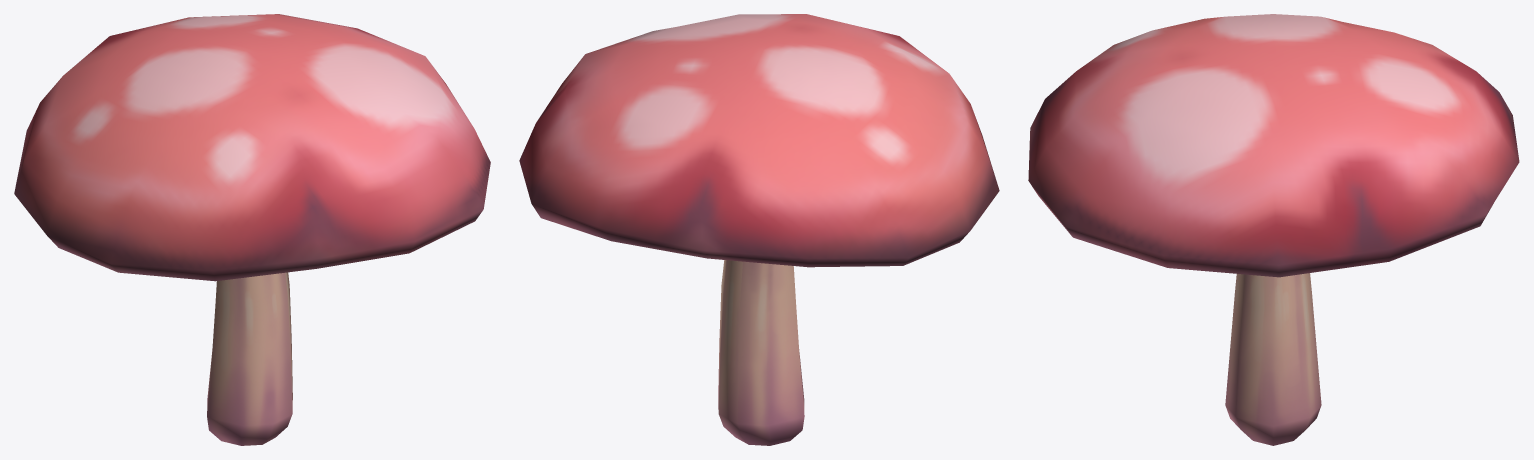
Rendered from MD_mushroom_Nomal_S.fbx.
The picture shows the model from 3 angles, left to right: view 1: azimuth 30°, elevation 25°; view 2: azimuth 150°, elevation 25°; view 3: azimuth 270°, elevation 25°; orthographic projection.
Visible parts, largest first — view 1: mushroom_Nomal_S1; view 2: mushroom_Nomal_S1; view 3: mushroom_Nomal_S1.
Boxes of the visible parts, x1,y1,x2,y2 form: mushroom_Nomal_S1: (14,14,490,445); mushroom_Nomal_S1: (519,14,999,445); mushroom_Nomal_S1: (1028,14,1519,445).
Bounding box in the file's own units: 870 × 765 × 873.
1 material, 1 textured.
